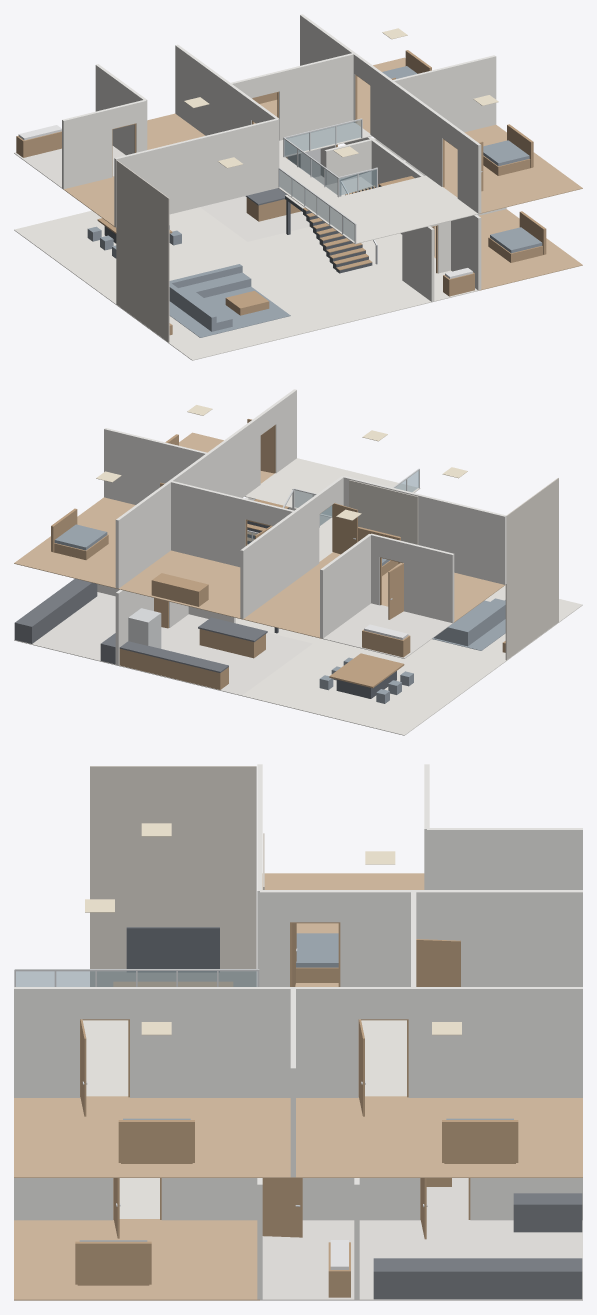
File: SM_Duplex_Cocody_01_Interieur.fbx
The picture shows the model from 3 angles, top to bottom: view 1: azimuth 30°, elevation 25°; view 2: azimuth 150°, elevation 25°; view 3: azimuth 270°, elevation 25°; orthographic projection. The views are drawn at different scales.
Visible parts, largest first — view 1: Duplex_Int_Structure, Duplex_Int_Mobilier; view 2: Duplex_Int_Structure, Duplex_Int_Mobilier, Door_Int_MasterSuite, Door_Int_MasterBath, Door_Int_Bed2; view 3: Duplex_Int_Structure, Duplex_Int_Mobilier, Door_Int_GuestBath, Door_Int_Study.
Boxes of the visible parts, x1,y1,x2,y2 form: Duplex_Int_Structure: [14, 14, 582, 360]; Duplex_Int_Mobilier: [16, 50, 546, 337]; Duplex_Int_Structure: [14, 389, 582, 735]; Duplex_Int_Mobilier: [14, 434, 505, 703]; Door_Int_MasterSuite: [333, 503, 357, 554]; Door_Int_MasterBath: [388, 563, 403, 619]; Door_Int_Bed2: [247, 419, 274, 473]; Duplex_Int_Structure: [14, 764, 582, 1300]; Duplex_Int_Mobilier: [75, 927, 582, 1299]; Door_Int_GuestBath: [262, 1178, 302, 1237]; Door_Int_Study: [416, 939, 460, 986].
Size of the model in its own units: 2156 by 783 by 1706.
